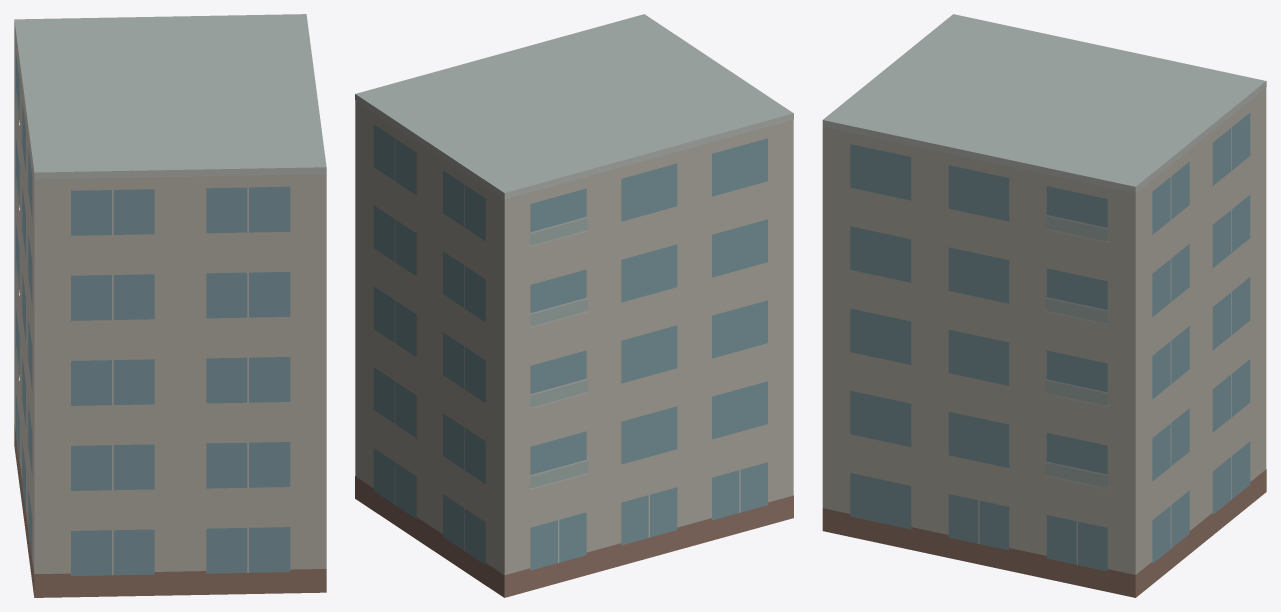
The model's file is survey-upis-32555099.glb.
3 renders of one model, left to right at view 1: azimuth 30°, elevation 25°; view 2: azimuth 150°, elevation 25°; view 3: azimuth 270°, elevation 25°, orthographic. The views are drawn at different scales.
Visible parts, largest first — view 1: survey-upis-32555099.tmp; view 2: survey-upis-32555099.tmp; view 3: survey-upis-32555099.tmp.
Boxes of the visible parts, x1,y1,x2,y2 form: survey-upis-32555099.tmp: (14,14,326,597); survey-upis-32555099.tmp: (355,14,793,597); survey-upis-32555099.tmp: (822,14,1266,597).
Size of the model in its own units: 13.81 by 15.3 by 14.98.
